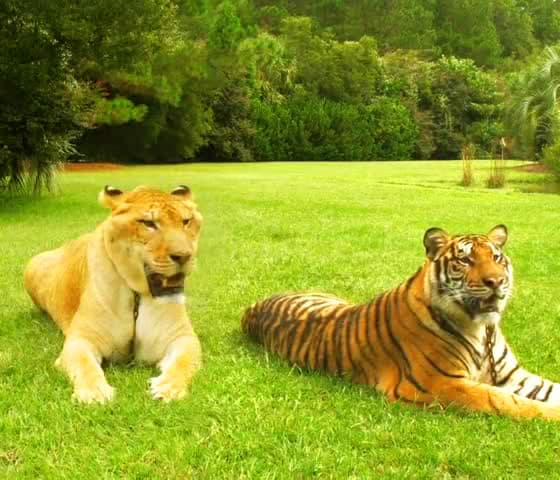Tiger: (252, 209, 560, 447)
